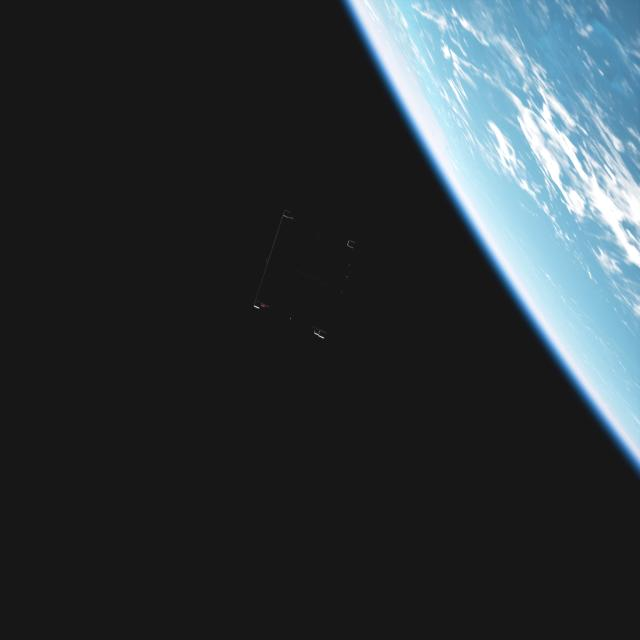satellite: (239, 206, 374, 360)
